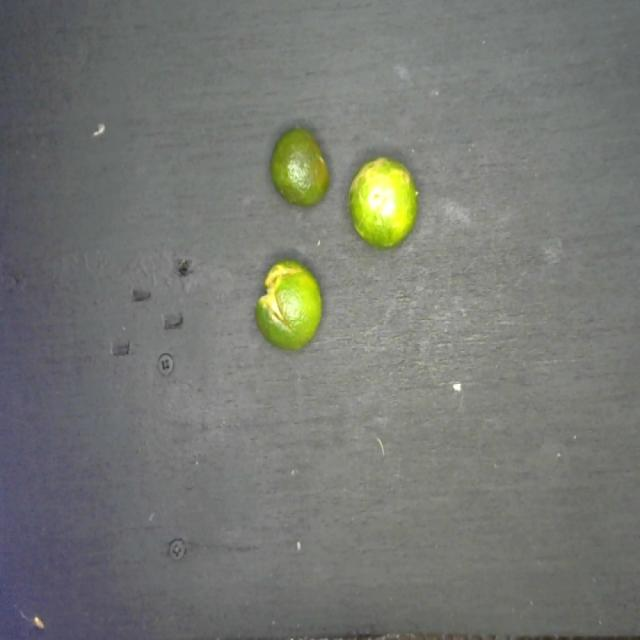biodegradable: (256, 120, 426, 354)
